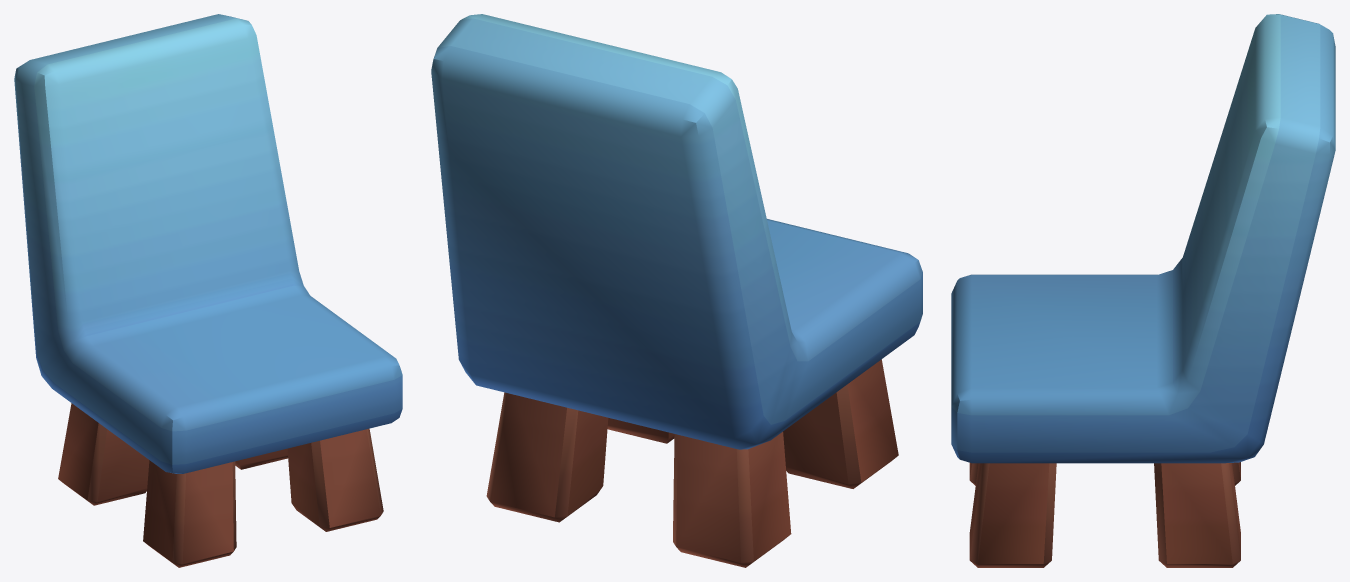
Rendered from chair_C.glb.
The picture shows the model from 3 angles, left to right: view 1: azimuth 30°, elevation 25°; view 2: azimuth 150°, elevation 25°; view 3: azimuth 270°, elevation 25°; orthographic projection. The views are drawn at different scales.
Parts seen in each view (by area): view 1: chair_C; view 2: chair_C; view 3: chair_C.
Part boxes in pixels (x1,y1,x2,y2): chair_C: [14, 14, 402, 567]; chair_C: [431, 14, 922, 567]; chair_C: [951, 14, 1335, 567].
Size of the model in its own units: 0.75 by 1.2 by 0.9357.
1 material, 1 textured.
